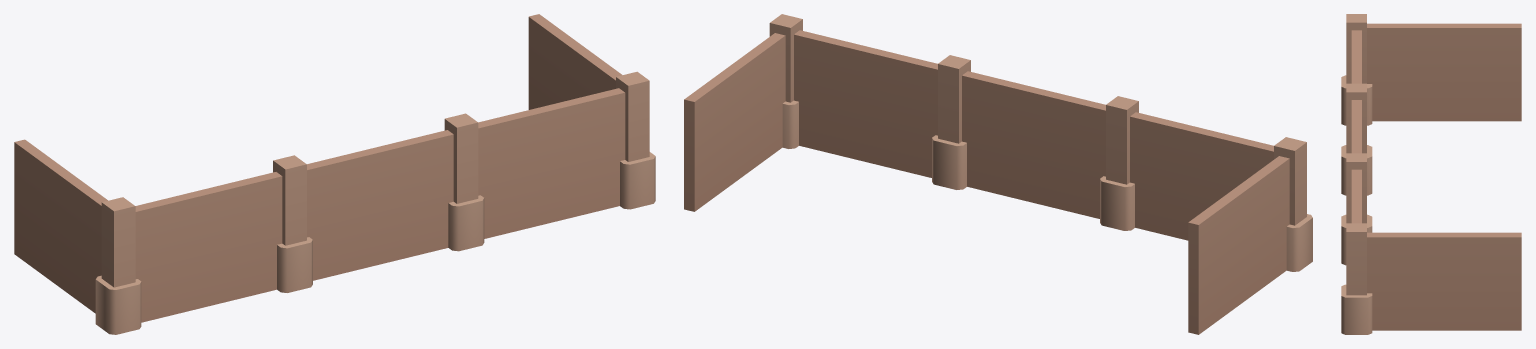
The model's file is fence-1x3.glb.
The picture shows the model from 3 angles, left to right: view 1: azimuth 30°, elevation 25°; view 2: azimuth 150°, elevation 25°; view 3: azimuth 270°, elevation 25°; orthographic projection. The views are drawn at different scales.
Parts seen in each view (by area): view 1: fence-1x3; view 2: fence-1x3; view 3: fence-1x3.
Boxes of the visible parts, x1,y1,x2,y2 form: fence-1x3: [14, 14, 655, 334]; fence-1x3: [684, 14, 1312, 334]; fence-1x3: [1341, 14, 1521, 334].
Bounding box in the file's own units: 1.28 × 0.27 × 0.4375.
